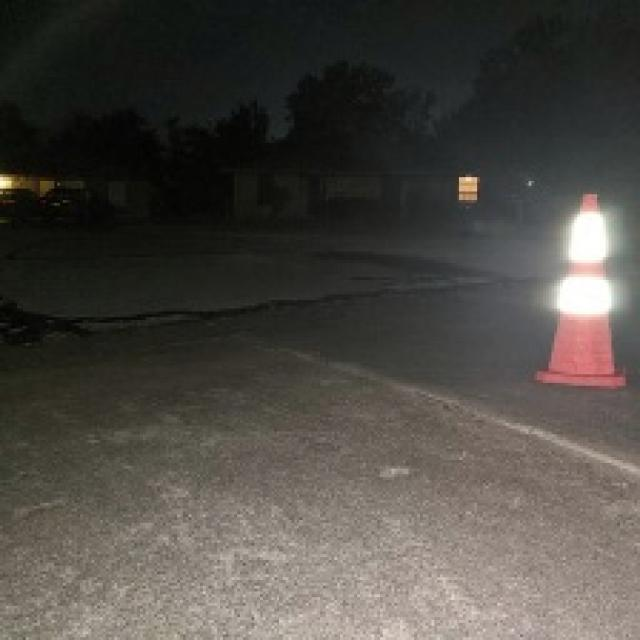cone: (537, 188, 629, 386)
